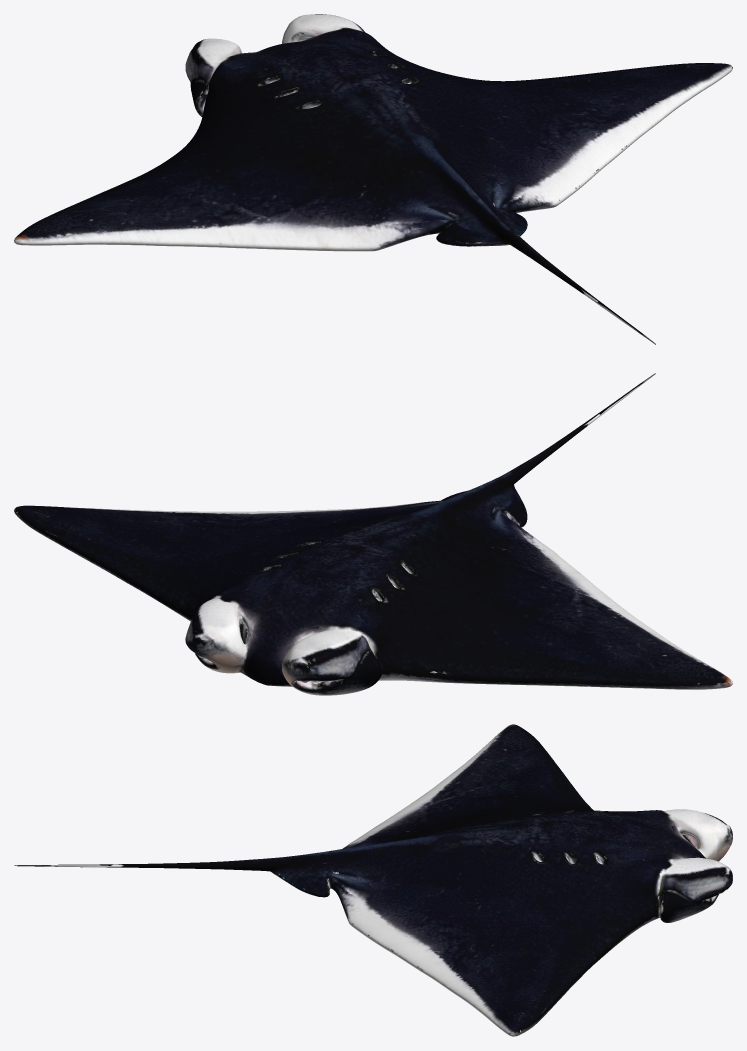
File: manta.glb
3 renders of one model, top to bottom at view 1: azimuth 30°, elevation 25°; view 2: azimuth 150°, elevation 25°; view 3: azimuth 270°, elevation 25°, orthographic. The views are drawn at different scales.
Parts seen in each view (by area): view 1: manta; view 2: manta; view 3: manta.
Part boxes in pixels (x1,y1,x2,y2): manta: (14, 14, 732, 344); manta: (14, 373, 732, 695); manta: (14, 724, 732, 1036).
Bounding box in the file's own units: 1 × 0.1209 × 0.982.
1 material, 1 textured.
